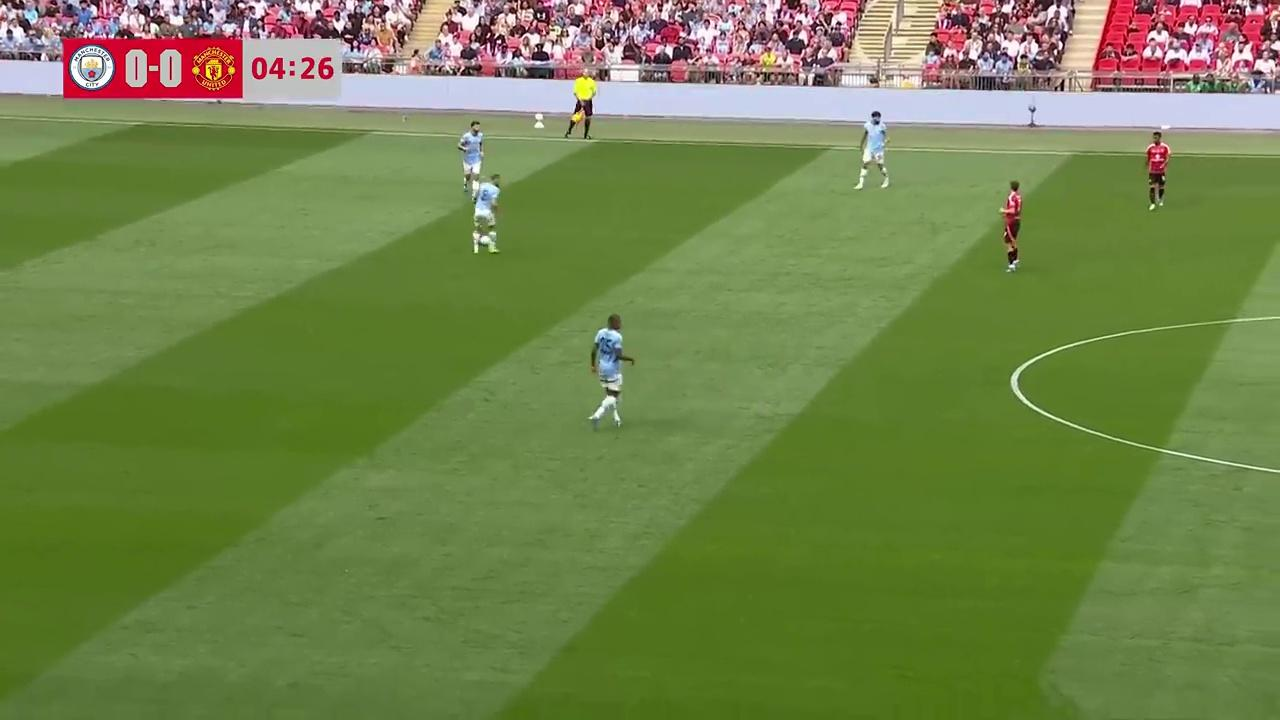player: (587, 314, 635, 430), (855, 112, 889, 190), (470, 173, 500, 255), (1000, 180, 1022, 272), (457, 121, 485, 192), (1144, 134, 1170, 209)
referee: (562, 73, 594, 139)
